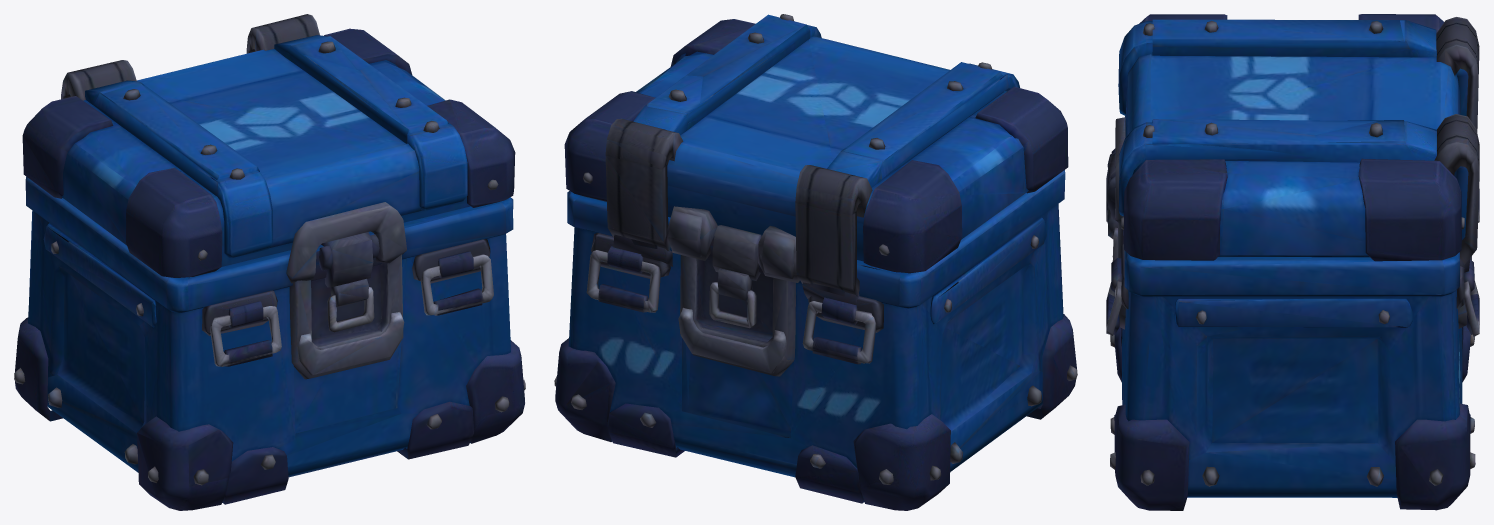
The model's file is tier-3-reinforced.glb.
The picture shows the model from 3 angles, left to right: view 1: azimuth 30°, elevation 25°; view 2: azimuth 150°, elevation 25°; view 3: azimuth 270°, elevation 25°; orthographic projection. The views are drawn at different scales.
Visible parts, largest first — view 1: tier-3-reinforced; view 2: tier-3-reinforced; view 3: tier-3-reinforced.
Part boxes in pixels (x1,y1,x2,y2): tier-3-reinforced: [14, 14, 525, 510]; tier-3-reinforced: [554, 14, 1077, 510]; tier-3-reinforced: [1106, 14, 1479, 510].
Bounding box in the file's own units: 1.25 × 1.05 × 1.
Materials: 1 (1 with a texture image).
